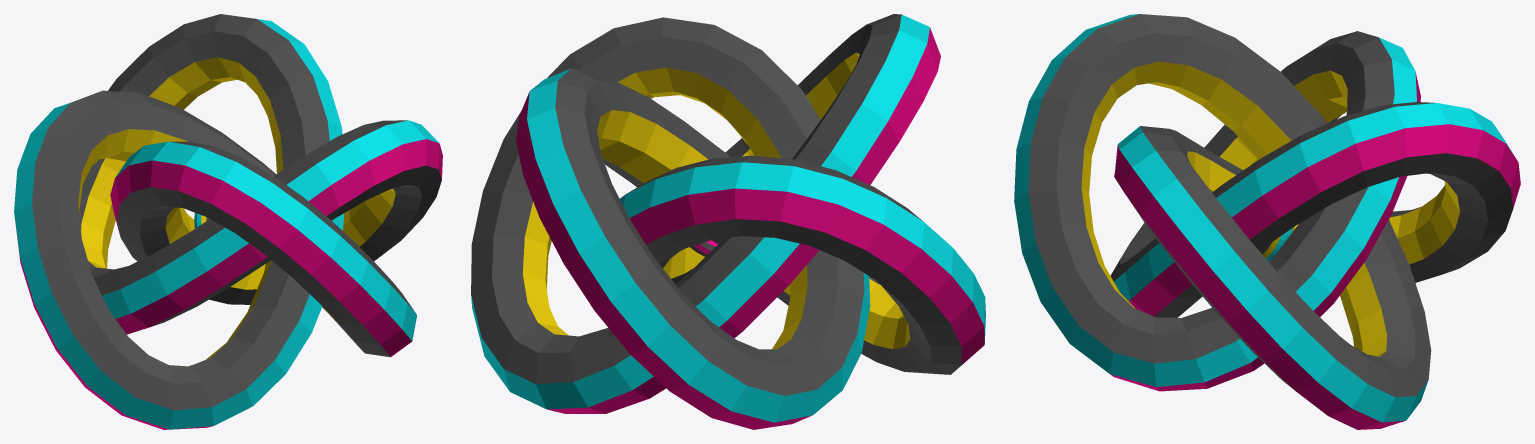
3 renders of one model, left to right at view 1: azimuth 30°, elevation 25°; view 2: azimuth 150°, elevation 25°; view 3: azimuth 270°, elevation 25°, orthographic. The views are drawn at different scales.
Parts seen in each view (by area): view 1: TorusKnot; view 2: TorusKnot; view 3: TorusKnot.
Boxes of the visible parts, left/top/right/bottom form: TorusKnot: left=14, top=14, right=442, bottom=429; TorusKnot: left=471, top=14, right=985, bottom=429; TorusKnot: left=1014, top=14, right=1520, bottom=429.
Bounding box in the file's own units: 1241 × 832 × 1240.
